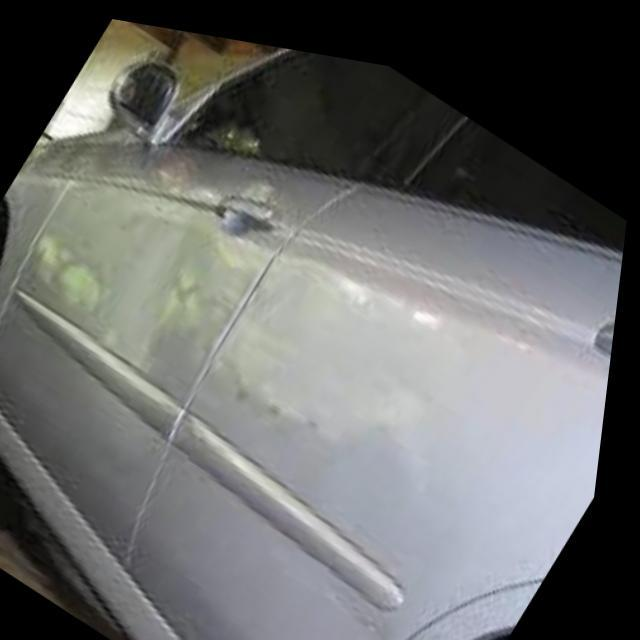dent: (123, 205, 407, 467)
